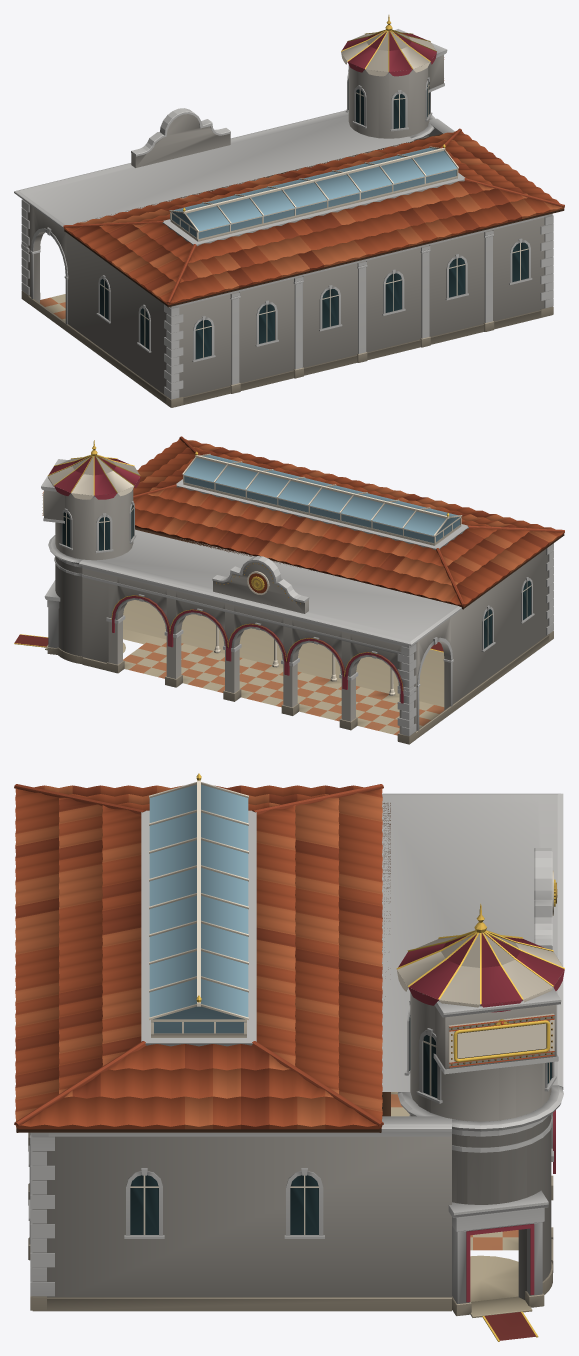
Rendered from pav_kursaal.glb.
3 views of the same model, one above another, from view 1: azimuth 30°, elevation 25°; view 2: azimuth 150°, elevation 25°; view 3: azimuth 270°, elevation 25° (orthographic). The views are drawn at different scales.
Visible parts, largest first — view 1: static_kursaal; view 2: static_kursaal; view 3: static_kursaal.
Part boxes in pixels (x1,y1,x2,y2): static_kursaal: (14,15,564,407); static_kursaal: (14,436,564,744); static_kursaal: (14,773,564,1341).
Bounding box in the file's own units: 26.91 × 13 × 17.21.
